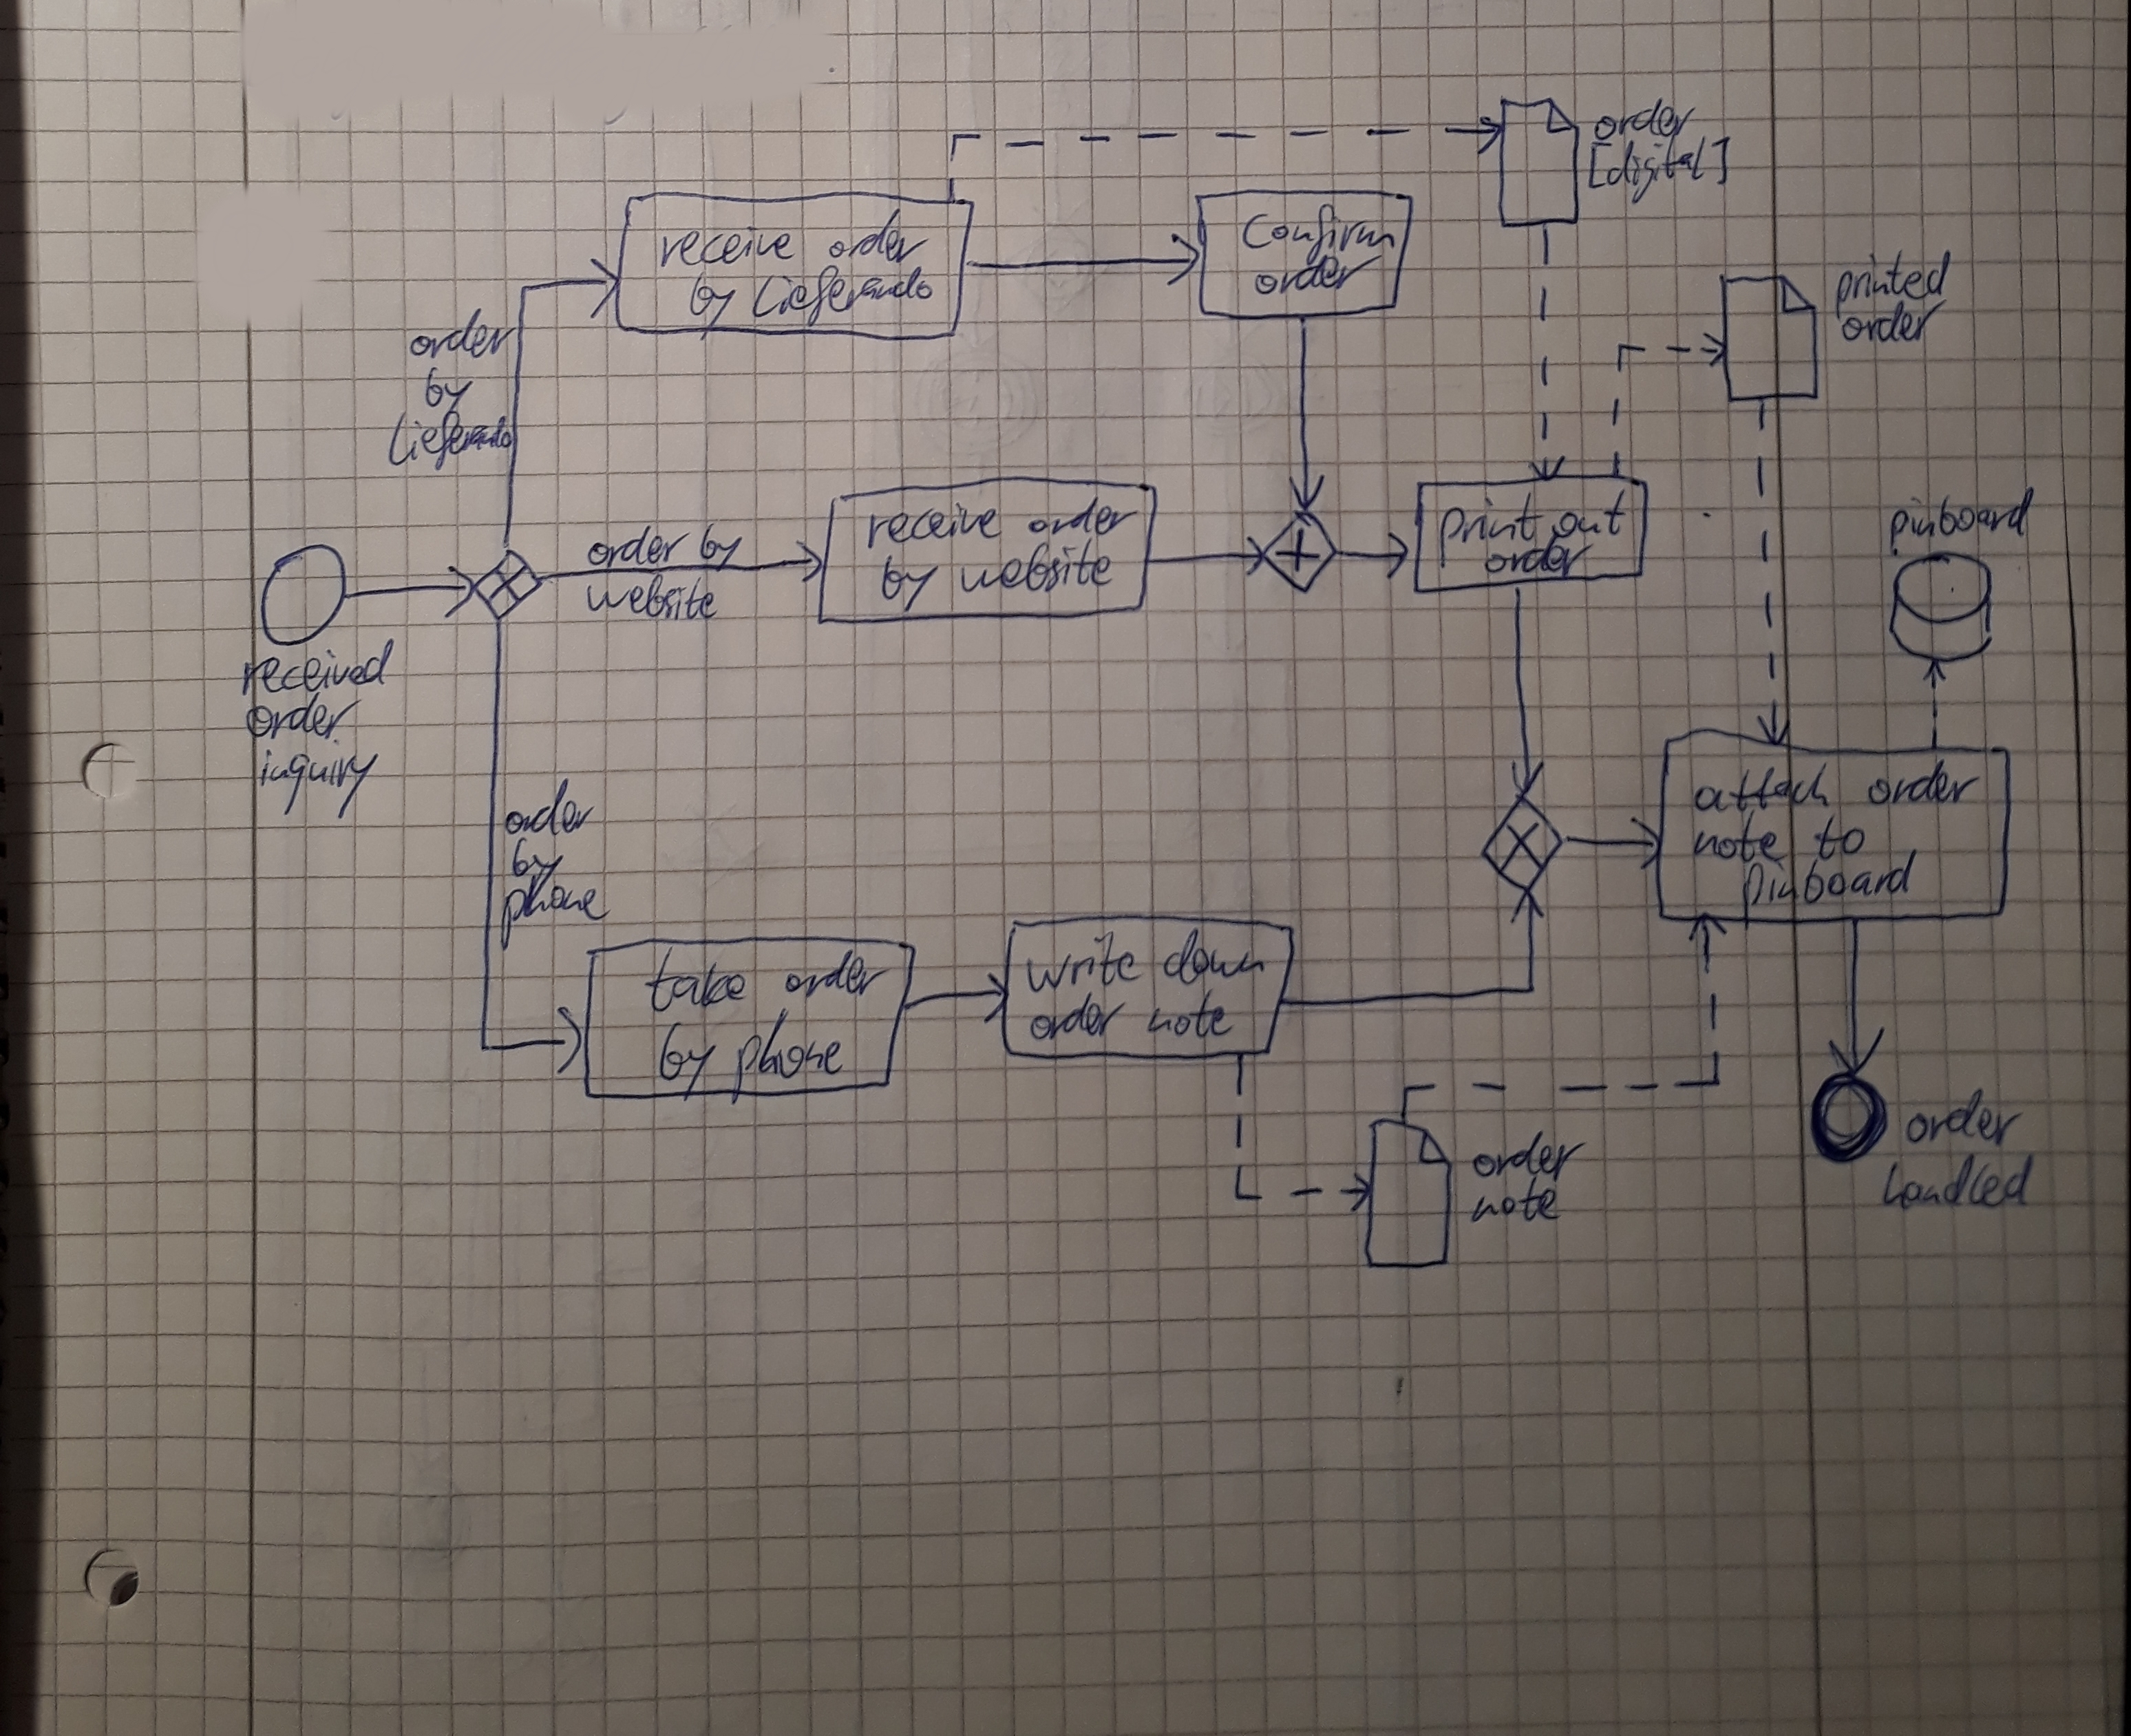Lieferando: (750, 262, 936, 326), (386, 407, 513, 472)
[digital]: (1584, 136, 1733, 205)
attach: (1690, 759, 1834, 818)
by: (658, 1019, 722, 1090), (880, 554, 940, 612), (508, 835, 565, 894), (690, 271, 740, 334), (699, 520, 745, 573), (423, 368, 476, 412)
confirm: (1239, 202, 1400, 258)
down: (1161, 927, 1267, 986)
handed: (1880, 1152, 2035, 1212)
inquiry: (255, 740, 389, 818)
note: (1692, 809, 1791, 862), (1469, 1177, 1563, 1226), (1145, 989, 1234, 1041)
order: (1904, 1085, 2027, 1150), (1471, 1127, 1588, 1182), (827, 205, 926, 267), (405, 306, 517, 361), (244, 692, 365, 741), (782, 949, 889, 1002), (1866, 759, 1982, 807), (503, 779, 596, 837), (1028, 989, 1126, 1044), (1255, 255, 1368, 299), (1593, 96, 1697, 143), (1841, 301, 1942, 349), (1483, 536, 1595, 579), (1027, 495, 1142, 536), (586, 524, 687, 570)
out: (1550, 488, 1628, 540)
phone: (727, 1009, 846, 1104), (497, 876, 611, 949)
pinboard: (1738, 851, 1919, 920), (1887, 487, 2039, 554)
print: (1437, 490, 1542, 556)
printed: (1830, 248, 1958, 315)
receive: (865, 501, 1005, 552), (657, 227, 796, 269)
received: (239, 642, 395, 699)
take: (644, 945, 750, 1014)
to: (1816, 812, 1871, 864)
website: (959, 538, 1115, 595), (584, 575, 720, 626)
write: (1025, 933, 1145, 998)
